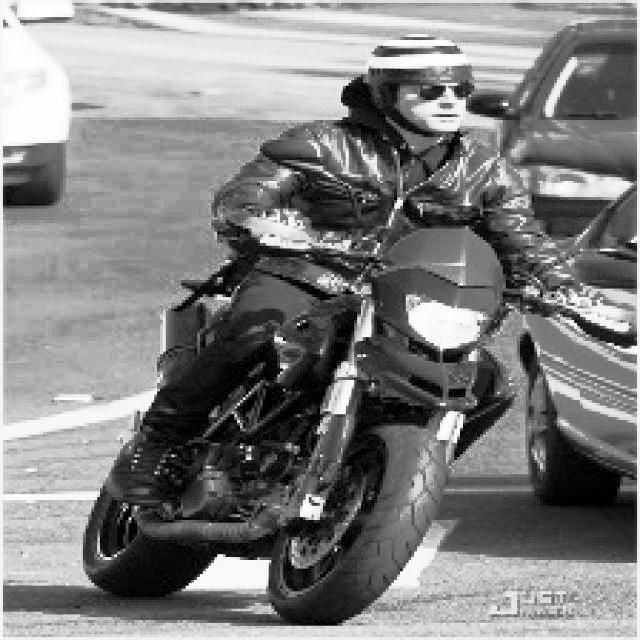Bike: (65, 240, 525, 622)
